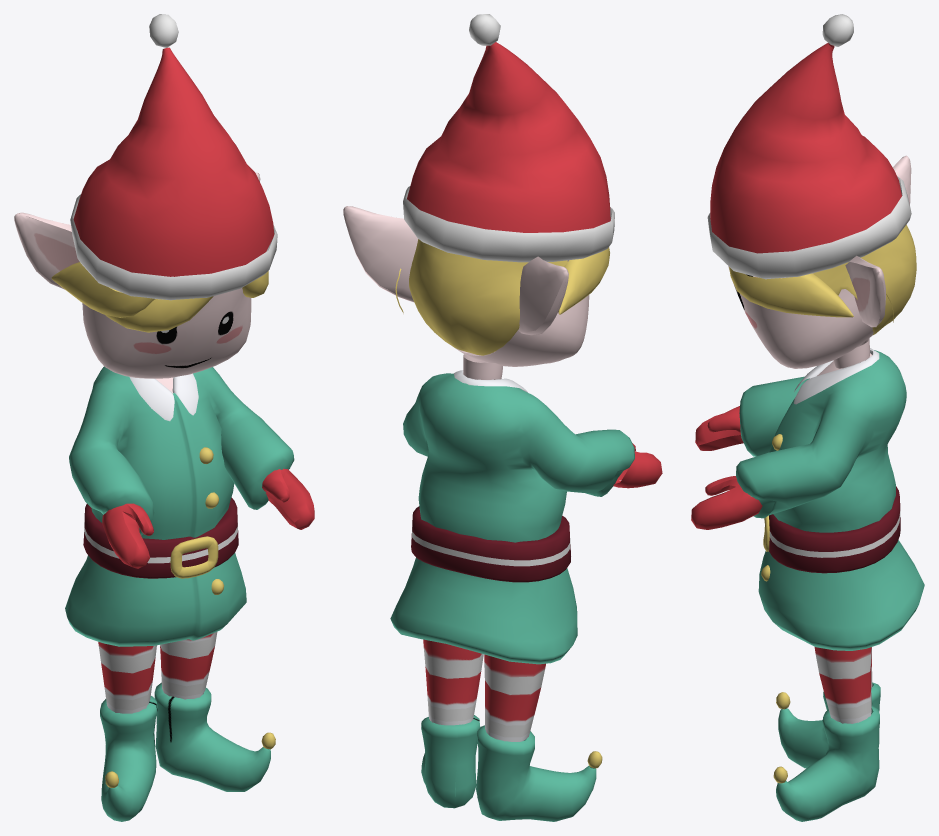
The model's file is elf_rigged.fbx.
3 renders of one model, left to right at view 1: azimuth 30°, elevation 25°; view 2: azimuth 150°, elevation 25°; view 3: azimuth 270°, elevation 25°, orthographic. The views are drawn at different scales.
Parts seen in each view (by area): view 1: Object_2; view 2: Object_2; view 3: Object_2.
Part boxes in pixels (x1=…): Object_2: x1=14, y1=14, x2=314, y2=821; Object_2: x1=343, y1=14, x2=662, y2=821; Object_2: x1=691, y1=14, x2=924, y2=821.
Size of the model in its own units: 35.15 by 113 by 30.76.
